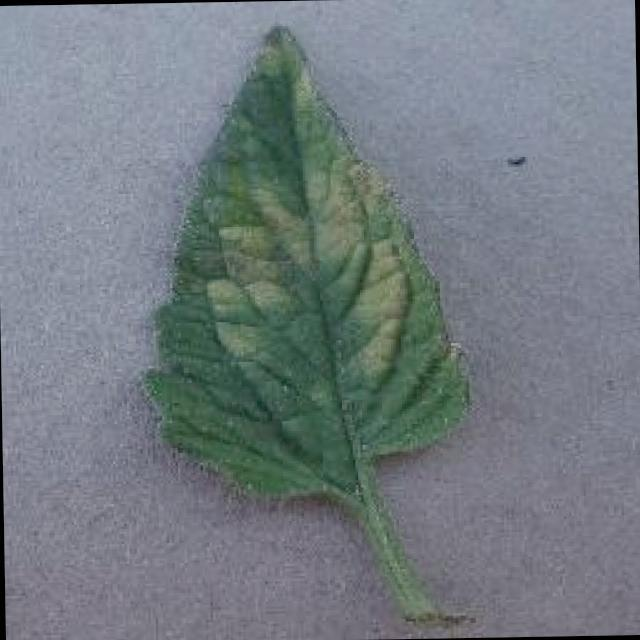Tomato mold leaf: (138, 18, 468, 505)
